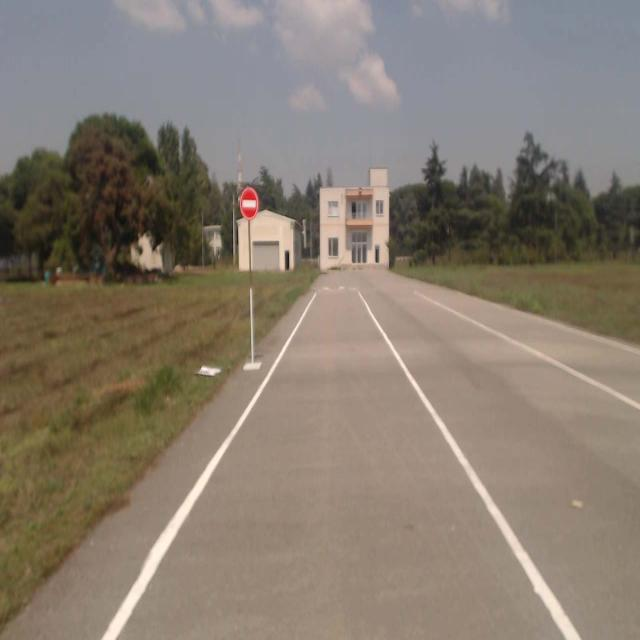girisyok: (240, 188, 258, 220)
